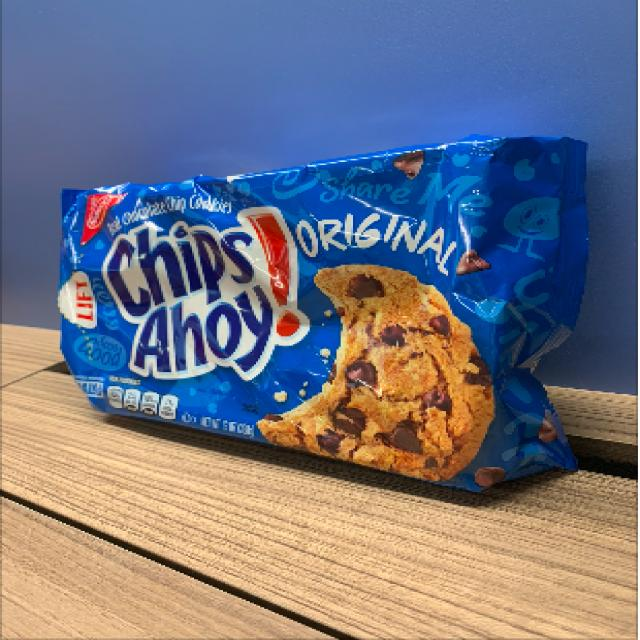object_name: (64, 157, 558, 451)
